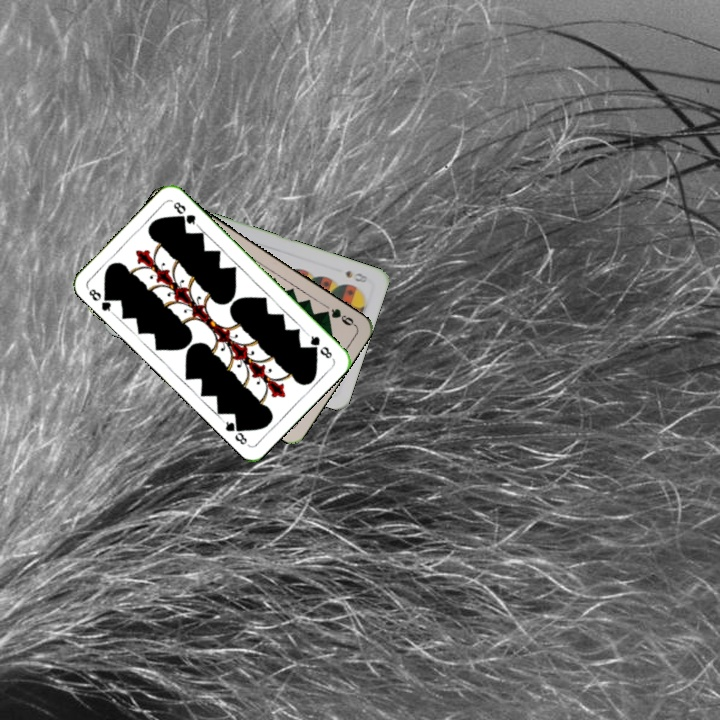G8: (84, 285, 116, 317), (303, 330, 335, 361)
G9: (318, 304, 358, 328)
S8: (341, 266, 370, 285)
